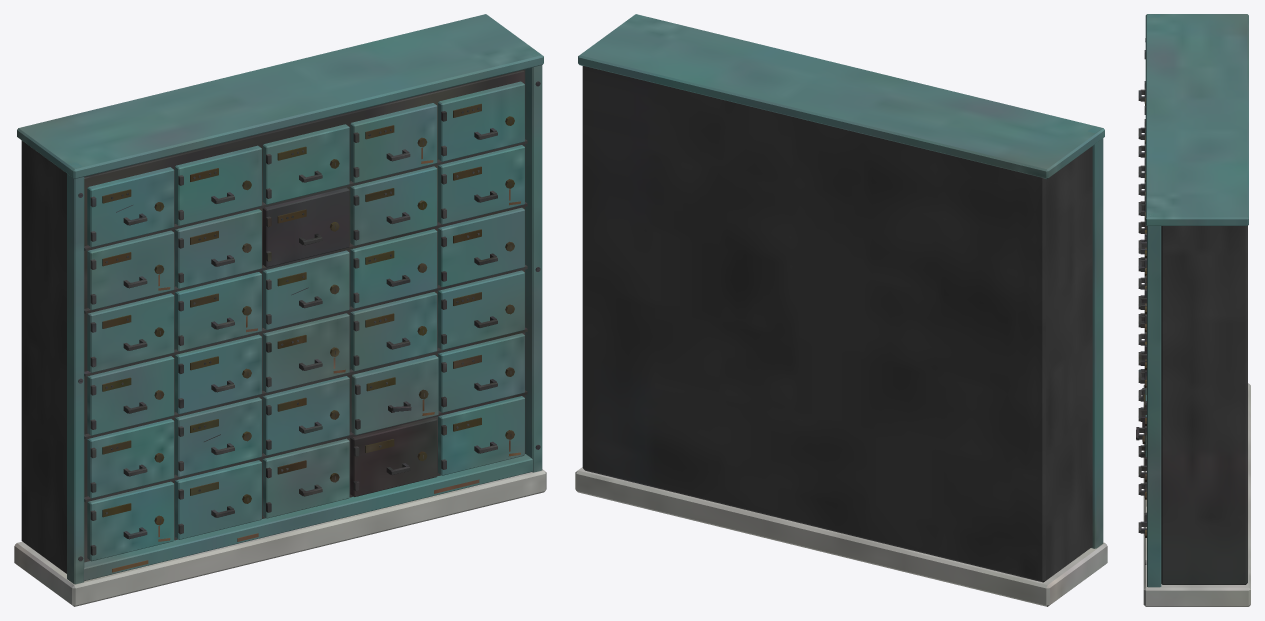
The model's file is O19_safe_deposit_boxes_wall.glb.
The picture shows the model from 3 angles, left to right: view 1: azimuth 30°, elevation 25°; view 2: azimuth 150°, elevation 25°; view 3: azimuth 270°, elevation 25°; orthographic projection. The views are drawn at different scales.
Parts seen in each view (by area): view 1: Low concrete footing; view 2: Low concrete footing; view 3: Low concrete footing.
Part boxes in pixels (bbox=[...]): Low concrete footing: bbox=[14, 14, 546, 606]; Low concrete footing: bbox=[575, 14, 1107, 606]; Low concrete footing: bbox=[1136, 14, 1250, 606].
Bounding box in the file's own units: 2.5 × 2.2 × 0.589.
6 materials, 6 textured.
